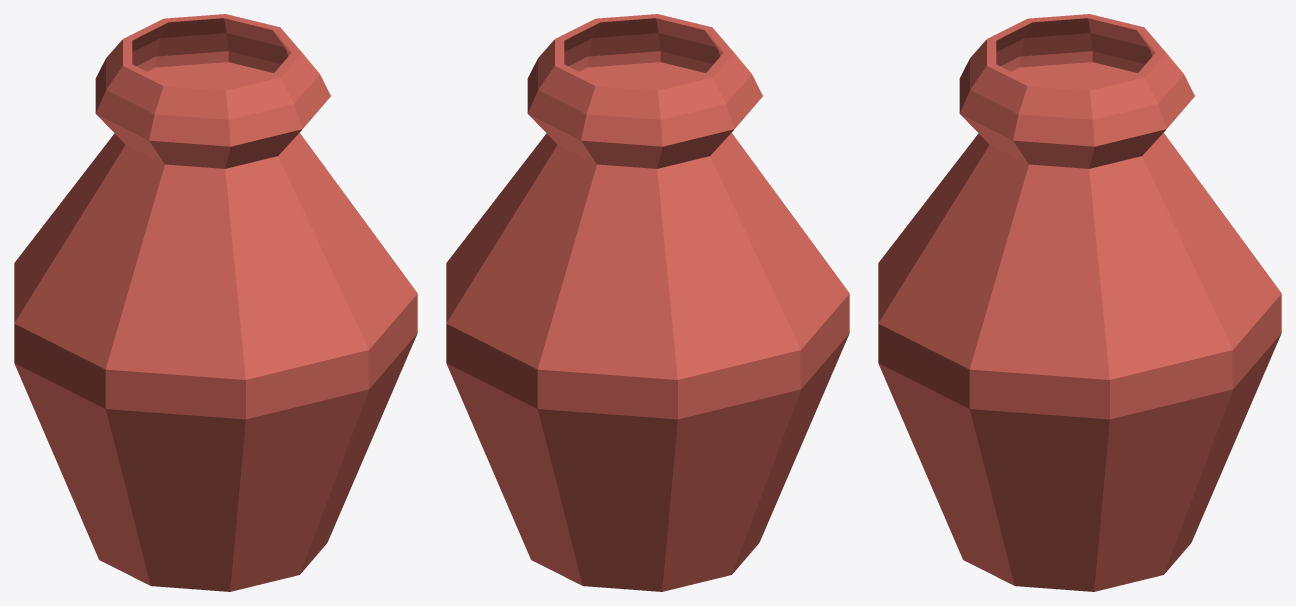
The model's file is ENV_Vase02_Placeholder02.fbx.
The picture shows the model from 3 angles, left to right: view 1: azimuth 30°, elevation 25°; view 2: azimuth 150°, elevation 25°; view 3: azimuth 270°, elevation 25°; orthographic projection.
Visible parts, largest first — view 1: Circle.004; view 2: Circle.004; view 3: Circle.004.
Part boxes in pixels (box(x1,y1,x2,y2)): Circle.004: box(14, 14, 417, 591); Circle.004: box(446, 14, 849, 591); Circle.004: box(878, 14, 1281, 591).
Bounding box in the file's own units: 53.78 × 54.61 × 72.12.
